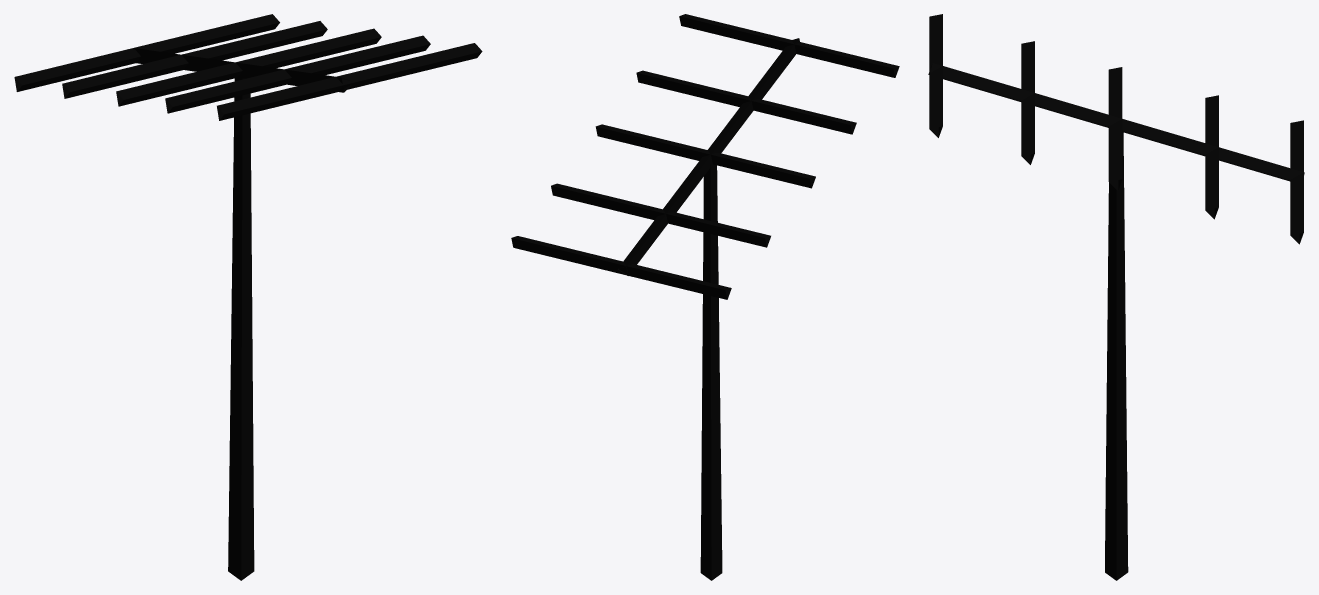
File: Antenna003.fbx
The picture shows the model from 3 angles, left to right: view 1: azimuth 30°, elevation 25°; view 2: azimuth 150°, elevation 25°; view 3: azimuth 270°, elevation 25°; orthographic projection. The views are drawn at different scales.
Visible parts, largest first — view 1: TODOS:polySurface1; view 2: TODOS:polySurface1; view 3: TODOS:polySurface1.
Boxes of the visible parts, x1,y1,x2,y2 form: TODOS:polySurface1: (14,14,482,580); TODOS:polySurface1: (511,14,899,580); TODOS:polySurface1: (928,14,1304,580).
Size of the model in its own units: 3.32 by 7.05 by 4.7.
